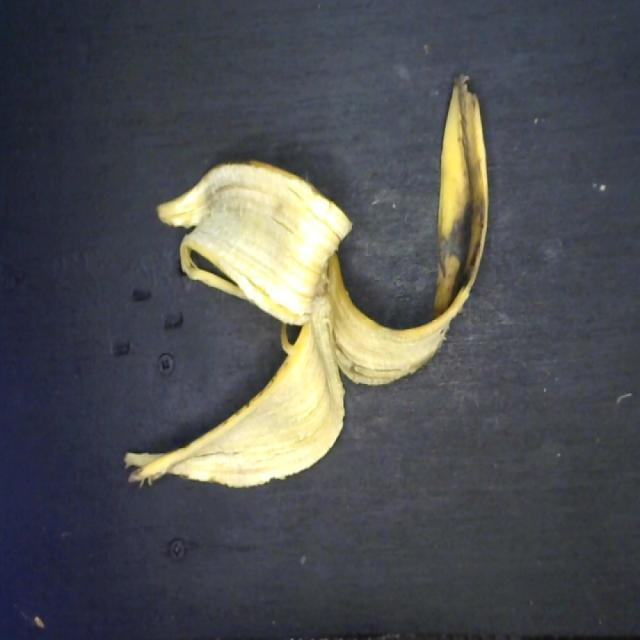biodegradable: (118, 69, 496, 496)
